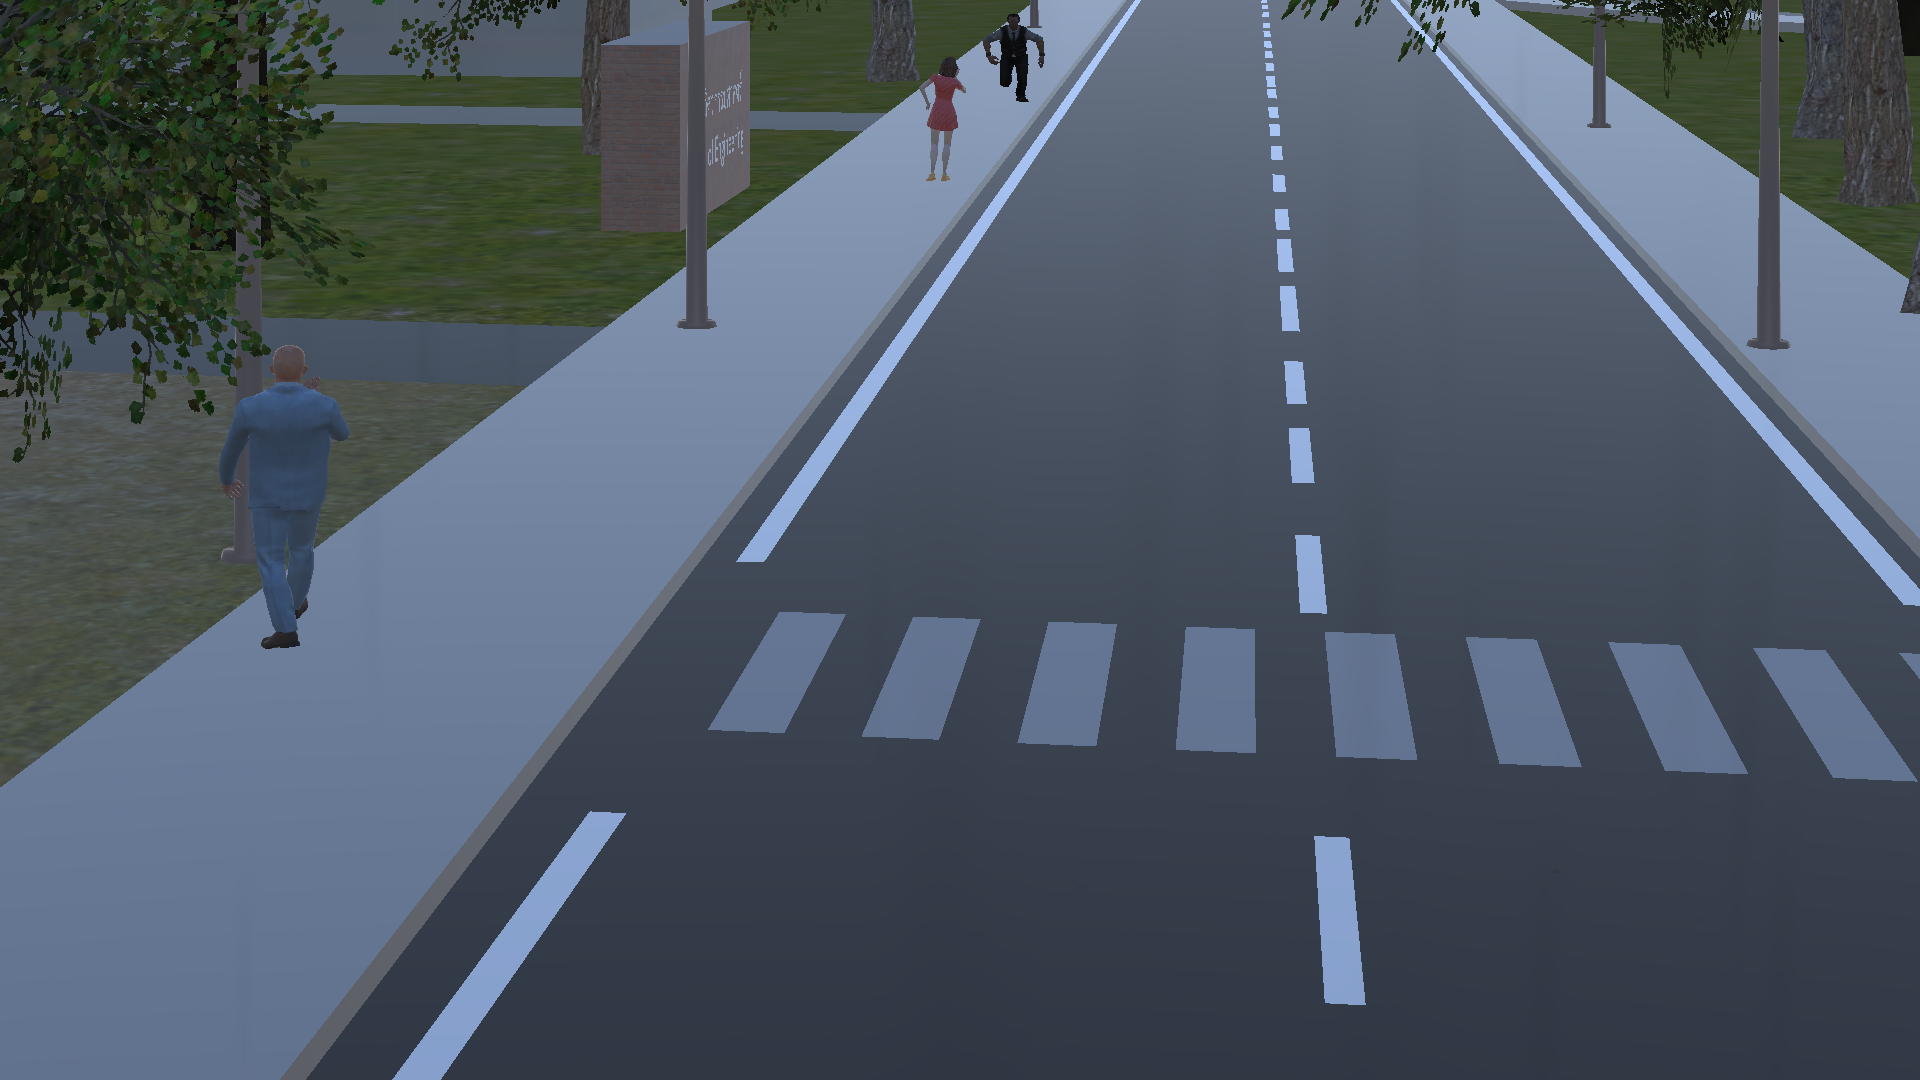pedestrian: (203, 324, 343, 678), (914, 40, 972, 187), (991, 7, 1051, 108)
